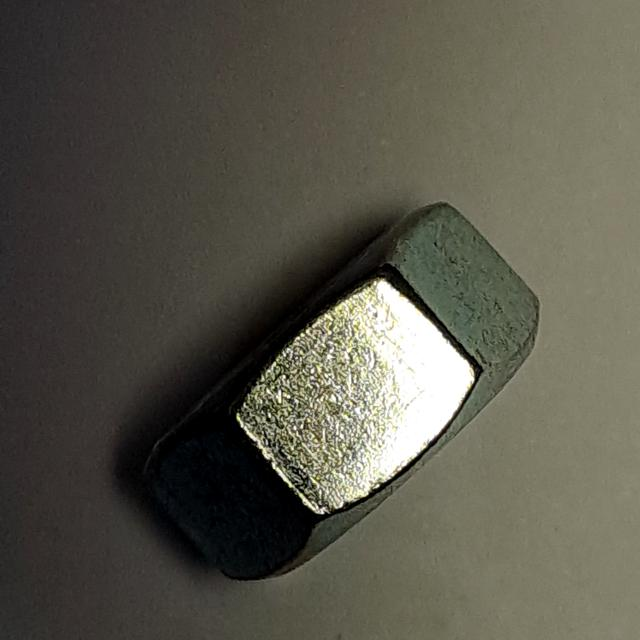Side_Excellent: (128, 190, 555, 603)
